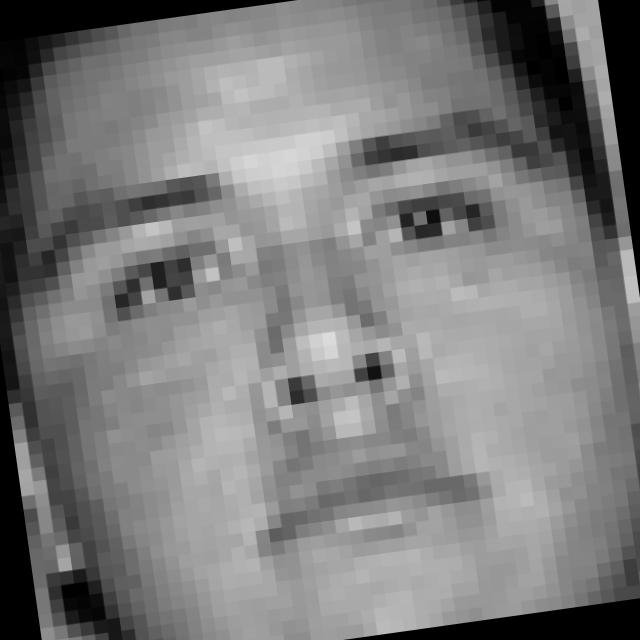neutral: (24, 105, 599, 594)
